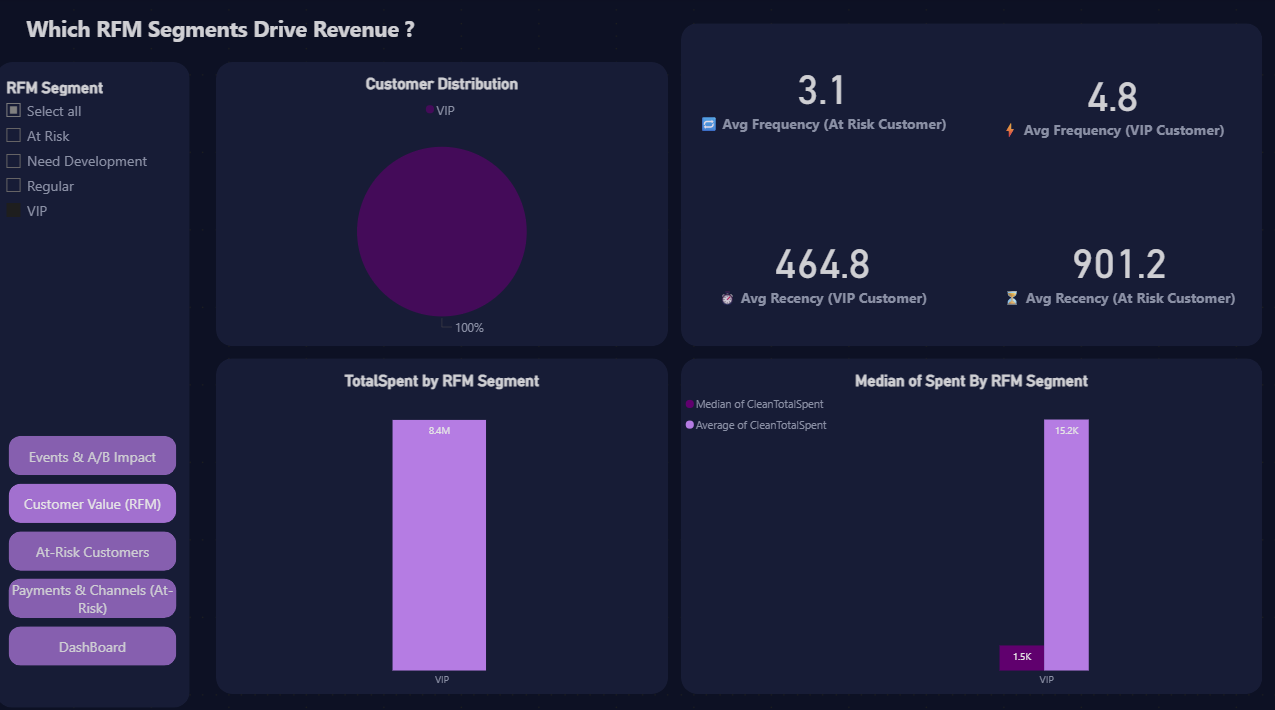

What the dashboard file says about the page in this screenshot:
{"tool":"powerbi","page":{"name":"Customer Value (RFM)","canvas":[1600,900],"ordinal":1},"visuals":[{"type":"shape","box":[272,80,560,352],"z":0},{"type":"shape","box":[0,80,240,800],"z":1000},{"type":"shape","box":[848,32,720,400],"z":2000},{"type":"shape","box":[848,448,720,416],"z":3000},{"type":"shape","box":[272,448,560,416],"z":4000},{"type":"shape","box":[864,48,576,336],"z":5000},{"type":"pieChart","title":"Customer Distribution","fields":{"Category":["arpand_ecommerce_dataset.RFM Category"],"Y":["CountNonNull(arpand_ecommerce_dataset.RFM Category)"]},"box":[272,96,560,336],"z":6000},{"type":"clusteredColumnChart","title":"Median of Spent By RFM Segment","fields":{"Category":["arpand_ecommerce_dataset.RFM Category"],"Y":["Median(arpand_ecommerce_dataset.CleanTotalSpent)","Avg(arpand_ecommerce_dataset.CleanTotalSpent)"]},"box":[848,464,720,400],"z":7000},{"type":"lineClusteredColumnComboChart","title":"TotalSpent by RFM Segment","fields":{"Category":["arpand_ecommerce_dataset.RFM Category"],"Y":["Sum(arpand_ecommerce_dataset.CleanTotalSpent)"]},"box":[272,464,560,400],"z":8000},{"type":"slicer","fields":{"Values":["arpand_ecommerce_dataset.RFM Segment"]},"box":[0,96,240,240],"z":9000},{"type":"card","fields":{"Values":["Measure Table.Avg Frequency (At Risk Customer)"]},"box":[848,32,352,176],"z":10000},{"type":"card","fields":{"Values":["Measure Table.Avg Recency (At Risk Customer)"]},"box":[1216,240,352,192],"z":11000},{"type":"card","fields":{"Values":["Measure Table.Avg Recency (VIP Customer)"]},"box":[864,240,320,192],"z":12000},{"type":"card","fields":{"Values":["Measure Table.Avg Frequency (VIP Customer)"]},"box":[1216,32,336,192],"z":13000},{"type":"pageNavigator","box":[16,544,208,288],"z":14000},{"type":"textbox","box":[32,16,560,64],"z":15000}]}

Visuals, with their boxes in screenshot pixels (x1, y1, x2, y2), scaled from the page's 1600x900 canvas onto the 1275x710 screenshot:
shape: x1=217 y1=63 x2=663 y2=341
shape: x1=0 y1=63 x2=191 y2=694
shape: x1=676 y1=25 x2=1250 y2=341
shape: x1=676 y1=353 x2=1250 y2=682
shape: x1=217 y1=353 x2=663 y2=682
shape: x1=688 y1=38 x2=1148 y2=303
"Customer Distribution" pieChart: x1=217 y1=76 x2=663 y2=341
"Median of Spent By RFM Segment" clusteredColumnChart: x1=676 y1=366 x2=1250 y2=682
"TotalSpent by RFM Segment" lineClusteredColumnComboChart: x1=217 y1=366 x2=663 y2=682
slicer - arpand_ecommerce_dataset.RFM Segment: x1=0 y1=76 x2=191 y2=265
card - Measure Table.Avg Frequency (At Risk Customer): x1=676 y1=25 x2=956 y2=164
card - Measure Table.Avg Recency (At Risk Customer): x1=969 y1=189 x2=1250 y2=341
card - Measure Table.Avg Recency (VIP Customer): x1=688 y1=189 x2=944 y2=341
card - Measure Table.Avg Frequency (VIP Customer): x1=969 y1=25 x2=1237 y2=177
pageNavigator: x1=13 y1=429 x2=178 y2=656
textbox: x1=26 y1=13 x2=472 y2=63
